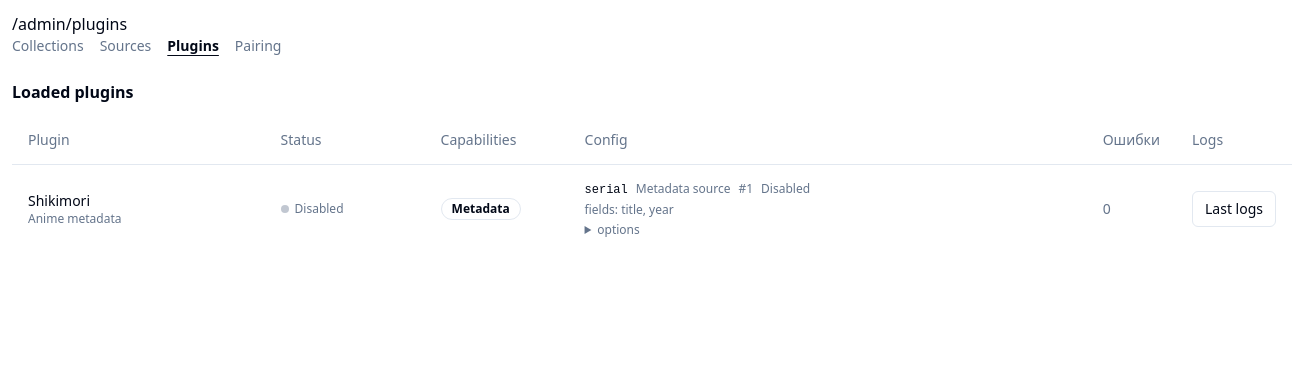
Test: Plugins — admin surface (plugin-admin-surfaces) › a refused logs fetch surfaces the canonical error inline without auto-retry
Expected: the row that starts with "Shikimori" is shown, [12, 164, 1291, 254]
Step 1. Click the button with aria-label "last logs shikimori" → (1234, 209), box [1192, 191, 1276, 227]
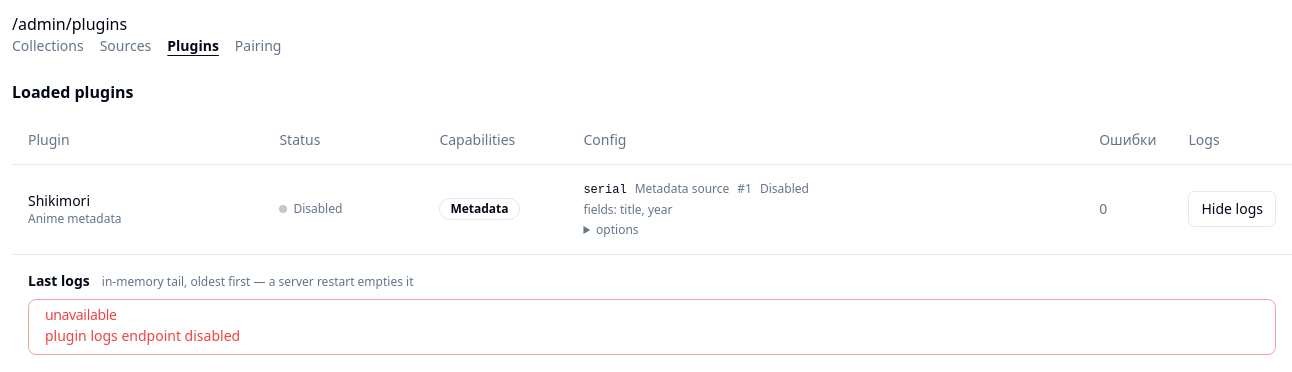
Expected: the heading "unavailable" is shown, [45, 304, 116, 324]
Expected: the text "plugin logs endpoint disabled" is shown, [45, 326, 240, 344]
